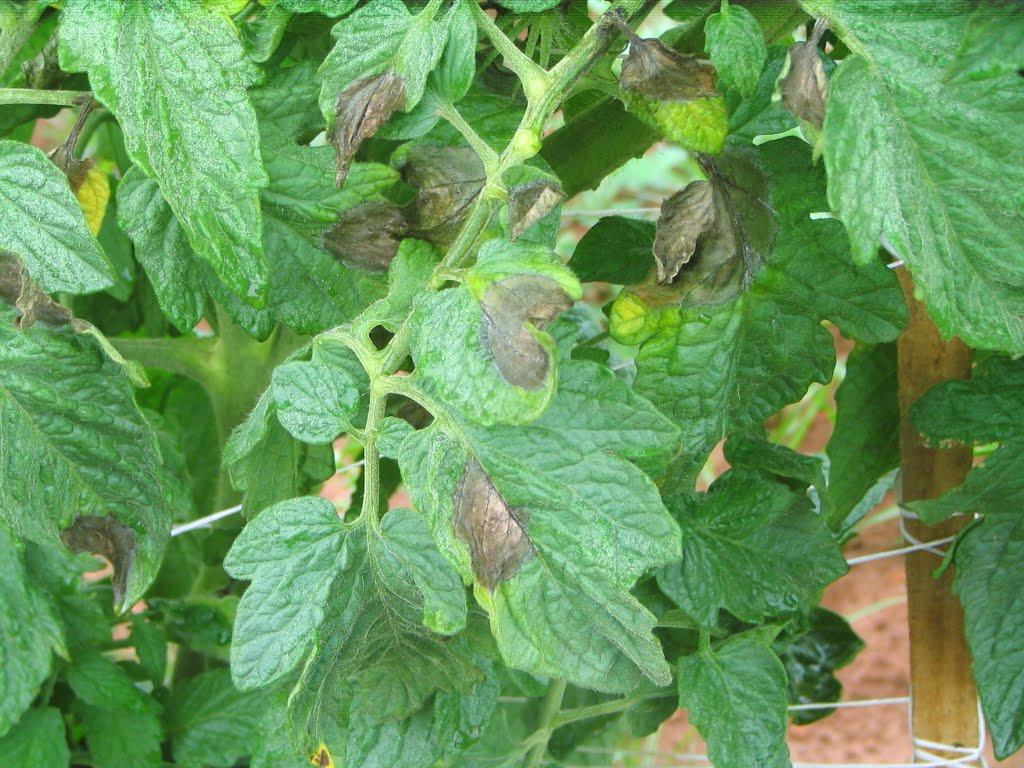Tomato leaf late blight: (625, 111, 913, 475), (393, 354, 687, 703), (406, 253, 583, 426), (325, 4, 445, 173), (612, 16, 737, 170)
